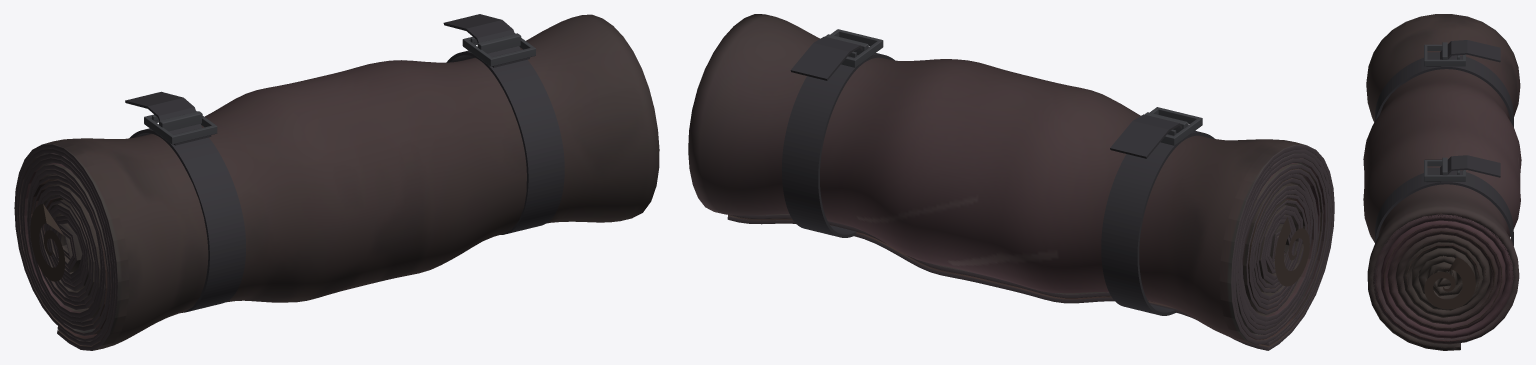
The model's file is bedroll_packed.glb.
The picture shows the model from 3 angles, left to right: view 1: azimuth 30°, elevation 25°; view 2: azimuth 150°, elevation 25°; view 3: azimuth 270°, elevation 25°; orthographic projection. The views are drawn at different scales.
Parts seen in each view (by area): view 1: Bedroll_Continuous_Sheet_Static, Removable_Strap_Right_Static, Removable_Strap_Left_Static, Threaded_Tail_Right_Static, Threaded_Tail_Left_Static, Ladderlock_Right_4_Static, Ladderlock_Left_4_Static; view 2: Bedroll_Continuous_Sheet_Static, Removable_Strap_Right_Static, Removable_Strap_Left_Static, Threaded_Tail_Left_Static, Threaded_Tail_Right_Static; view 3: Bedroll_Continuous_Sheet_Static, Removable_Strap_Right_Static, Removable_Strap_Left_Static, Threaded_Tail_Right_Static, Threaded_Tail_Left_Static, Ladderlock_Left_1_Static, Ladderlock_Right_1_Static.
Part boxes in pixels (<box>): Bedroll_Continuous_Sheet_Static: <box>14,14,659,350</box>; Removable_Strap_Right_Static: <box>446,50,564,234</box>; Removable_Strap_Left_Static: <box>129,128,245,312</box>; Threaded_Tail_Right_Static: <box>443,14,529,67</box>; Threaded_Tail_Left_Static: <box>125,91,211,145</box>; Ladderlock_Right_4_Static: <box>477,33,521,53</box>; Ladderlock_Left_4_Static: <box>159,111,202,131</box>; Bedroll_Continuous_Sheet_Static: <box>688,14,1334,350</box>; Removable_Strap_Right_Static: <box>782,53,894,237</box>; Removable_Strap_Left_Static: <box>1101,130,1214,315</box>; Threaded_Tail_Left_Static: <box>1110,114,1188,158</box>; Threaded_Tail_Right_Static: <box>790,36,869,80</box>; Bedroll_Continuous_Sheet_Static: <box>1363,14,1521,350</box>; Removable_Strap_Right_Static: <box>1375,170,1513,245</box>; Removable_Strap_Left_Static: <box>1375,55,1513,126</box>; Threaded_Tail_Right_Static: <box>1426,155,1500,182</box>; Threaded_Tail_Left_Static: <box>1426,40,1500,66</box>; Ladderlock_Left_1_Static: <box>1424,59,1465,66</box>; Ladderlock_Right_1_Static: <box>1424,175,1465,181</box>.
Bounding box in the file's own units: 0.399 × 0.1361 × 0.1275.
5 materials, 2 textured.
